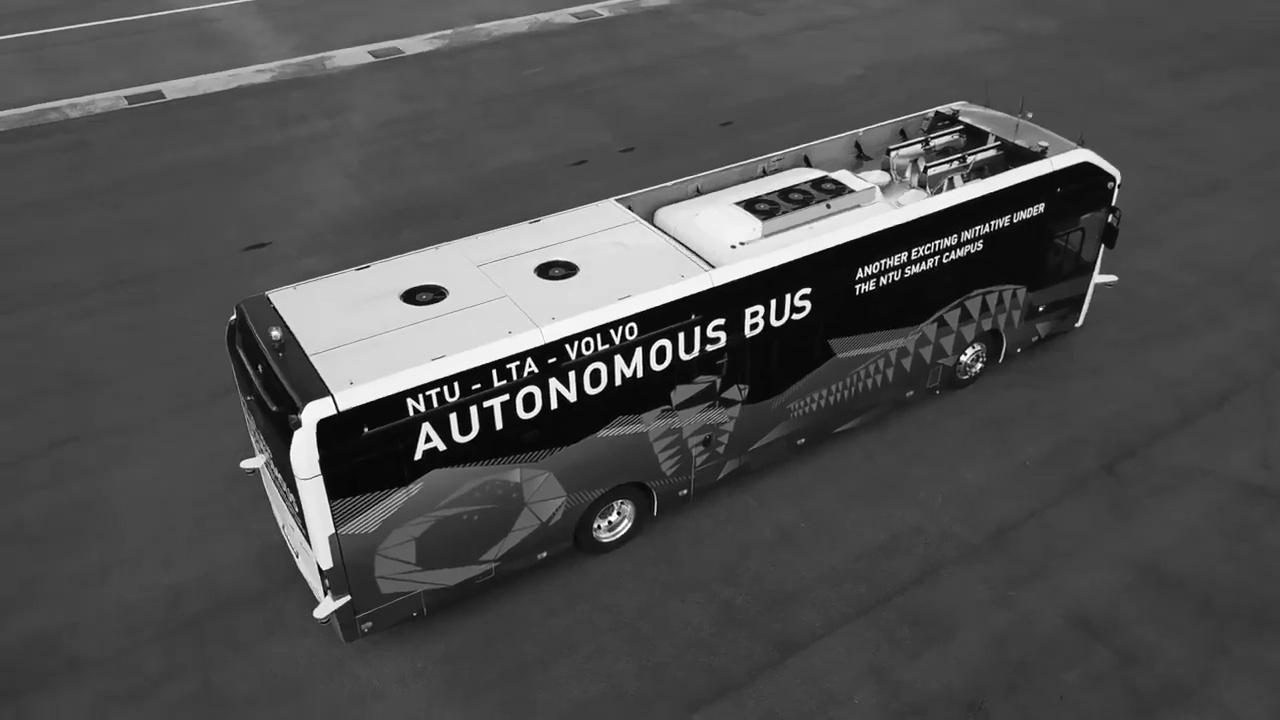Bus: (223, 95, 1123, 644)
